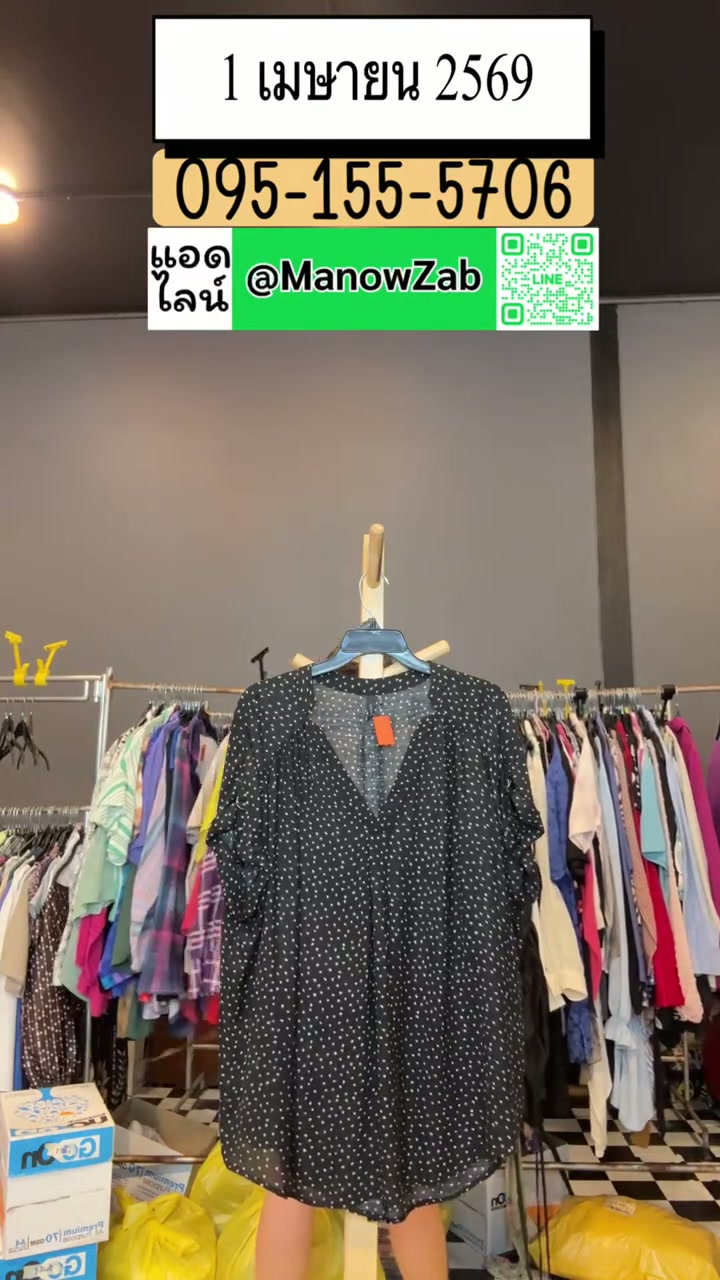display_shirt: (209, 663, 540, 1279)
